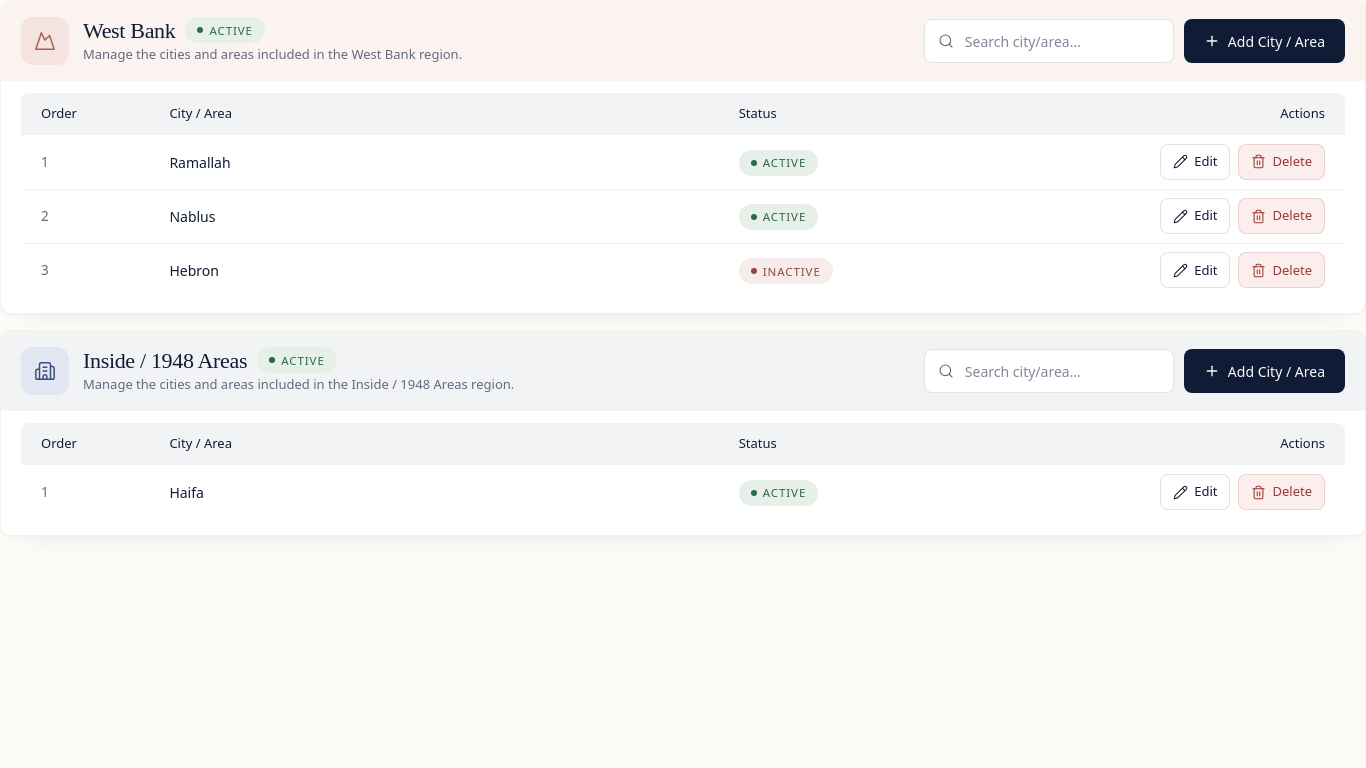
Test case: status › reverts and reports an error when the save fails
The width and height of the screenshot is (1366, 768).
Click the button with test id "location-status-toggle" at (778, 163), box [739,150,818,176]
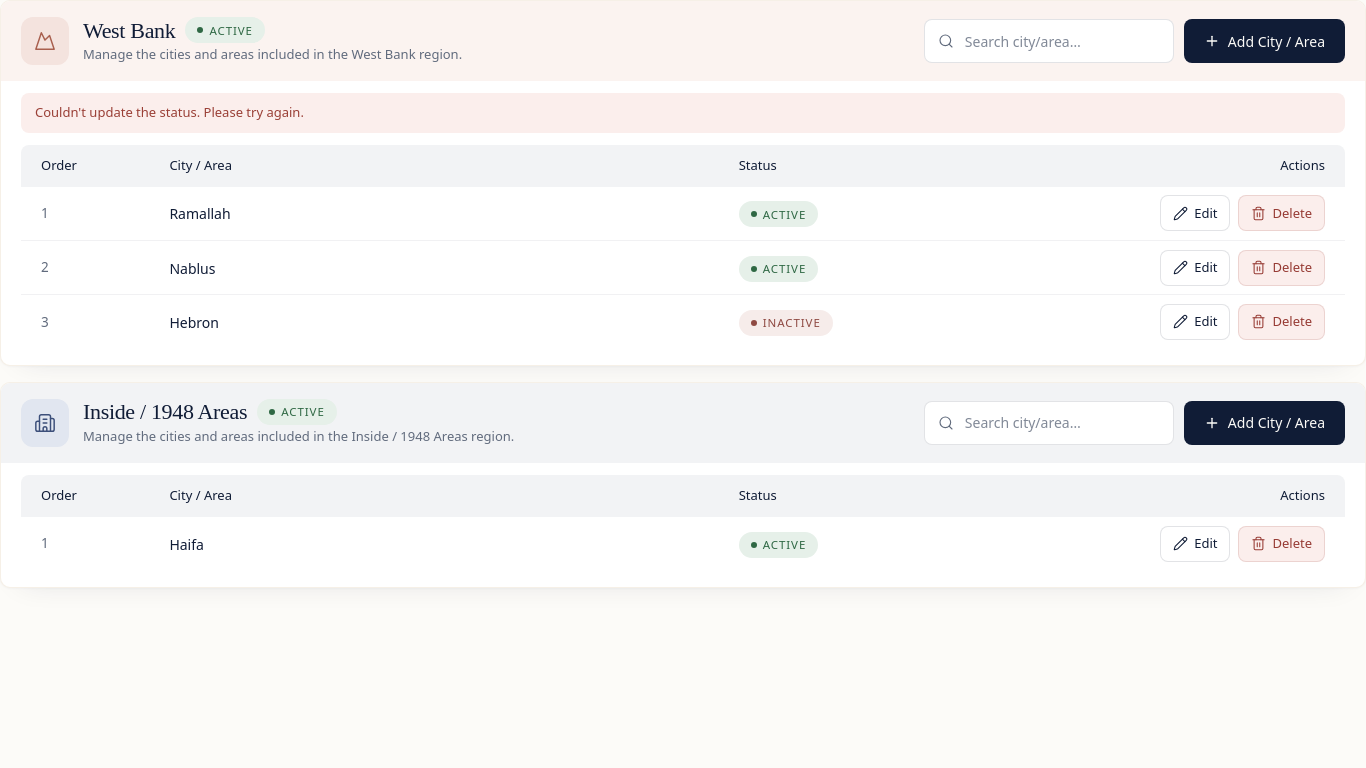
Expected: the button with test id "location-status-toggle" reads "Active", [739,201,818,227]
Now the message reads "Couldn't update the status. Please try again.", box [35,103,304,121]
